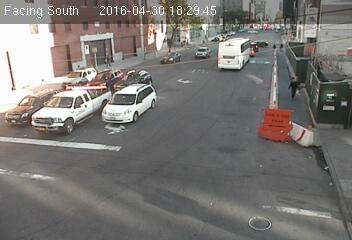neg: (196, 137, 223, 174), (168, 84, 194, 119), (272, 119, 293, 146), (142, 76, 159, 98), (106, 120, 120, 139)
pos: (285, 75, 303, 99), (102, 53, 111, 66), (277, 40, 284, 50), (272, 41, 279, 51)
